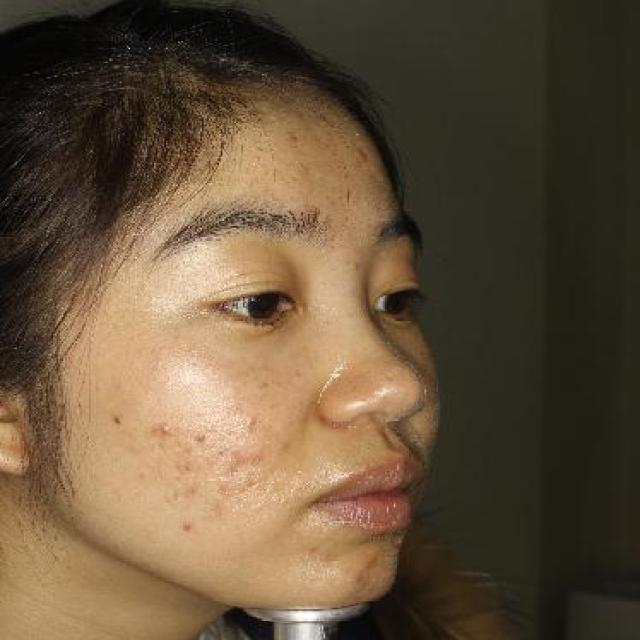papules: (242, 417, 258, 431)
pustules: (150, 422, 174, 442), (190, 431, 210, 446)
